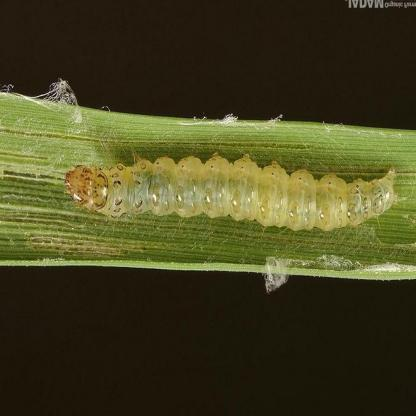leaf-folder: (57, 140, 407, 248)
